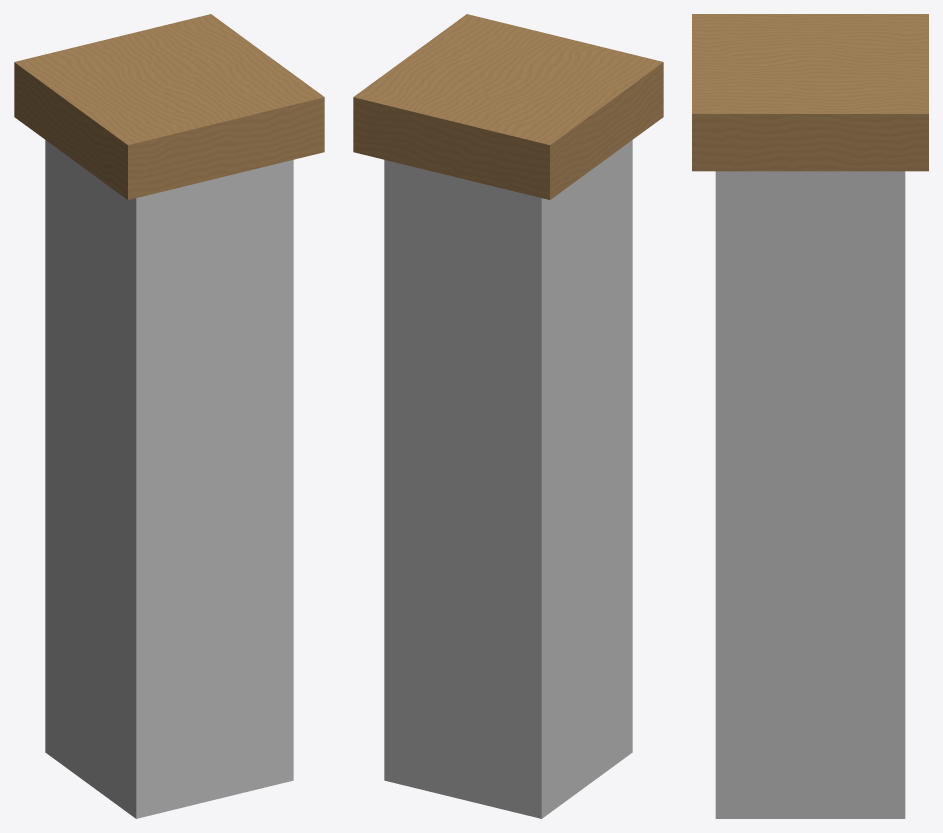
The model's file is Railing_Half_Pillar_White_03.FBX.
The picture shows the model from 3 angles, left to right: view 1: azimuth 30°, elevation 25°; view 2: azimuth 150°, elevation 25°; view 3: azimuth 270°, elevation 25°; orthographic projection. The views are drawn at different scales.
Visible parts, largest first — view 1: HalfPillar_2p5m_Capped; view 2: HalfPillar_2p5m_Capped; view 3: HalfPillar_2p5m_Capped.
Part boxes in pixels (x1,y1,x2,y2): HalfPillar_2p5m_Capped: [14, 14, 324, 818]; HalfPillar_2p5m_Capped: [353, 14, 663, 818]; HalfPillar_2p5m_Capped: [692, 14, 928, 818].
Bounding box in the file's own units: 2953 × 9843 × 2953.
